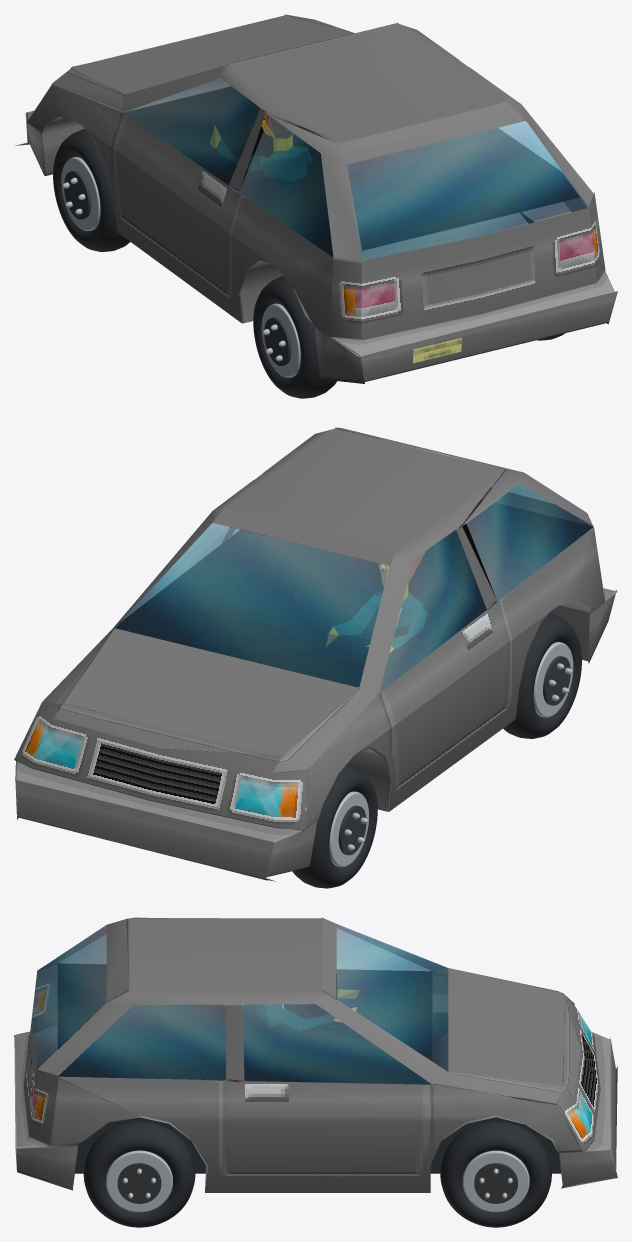
File: car-compacta.glb
3 views of the same model, one above another, from view 1: azimuth 30°, elevation 25°; view 2: azimuth 150°, elevation 25°; view 3: azimuth 270°, elevation 25° (orthographic). The views are drawn at different scales.
Visible parts, largest first — view 1: compactAShape.001, windShape.001, compactAShape, Rounded tire.013, Rounded tire.014, Alloy rim.013, Alloy rim.014, Rim recess.026, Rim recess.028; view 2: compactAShape.001, windShape.001, compactAShape, Rounded tire.014, Rounded tire.013, Alloy rim.014, Alloy rim.013, Rim recess.028, Rim recess.026; view 3: compactAShape.001, windShape.001, compactAShape, Rounded tire.015, Rounded tire.012, Alloy rim.015, Alloy rim.012, Rim recess.025, Rim recess.031.
Part boxes in pixels (box(x1,y1,x2,y2)): compactAShape.001: box(15, 14, 617, 383); windShape.001: box(124, 78, 587, 261); compactAShape: box(124, 86, 579, 256); Rounded tire.013: box(253, 276, 336, 398); Rounded tire.014: box(53, 129, 129, 251); Alloy rim.013: box(261, 303, 300, 377); Alloy rim.014: box(61, 157, 100, 230); Rim recess.026: box(264, 317, 291, 365); Rim recess.028: box(64, 170, 91, 219); compactAShape.001: box(14, 427, 617, 881); windShape.001: box(115, 440, 593, 691); compactAShape: box(116, 499, 592, 691); Rounded tire.014: box(292, 763, 377, 888); Rounded tire.013: box(503, 613, 581, 738); Alloy rim.014: box(329, 791, 368, 867); Alloy rim.013: box(533, 642, 573, 717); Rim recess.028: box(338, 805, 366, 855); Rim recess.026: box(543, 656, 570, 705); compactAShape.001: box(14, 917, 617, 1192); windShape.001: box(32, 917, 448, 1084); compactAShape: box(57, 963, 431, 1084); Rounded tire.015: box(440, 1121, 551, 1227); Rounded tire.012: box(83, 1121, 195, 1227); Alloy rim.015: box(462, 1150, 529, 1212); Alloy rim.012: box(106, 1150, 172, 1212); Rim recess.025: box(117, 1163, 161, 1203); Rim recess.031: box(474, 1163, 517, 1203).
Bounding box in the file's own units: 2.29 × 1.83 × 4.57.
6 materials, 3 textured.
